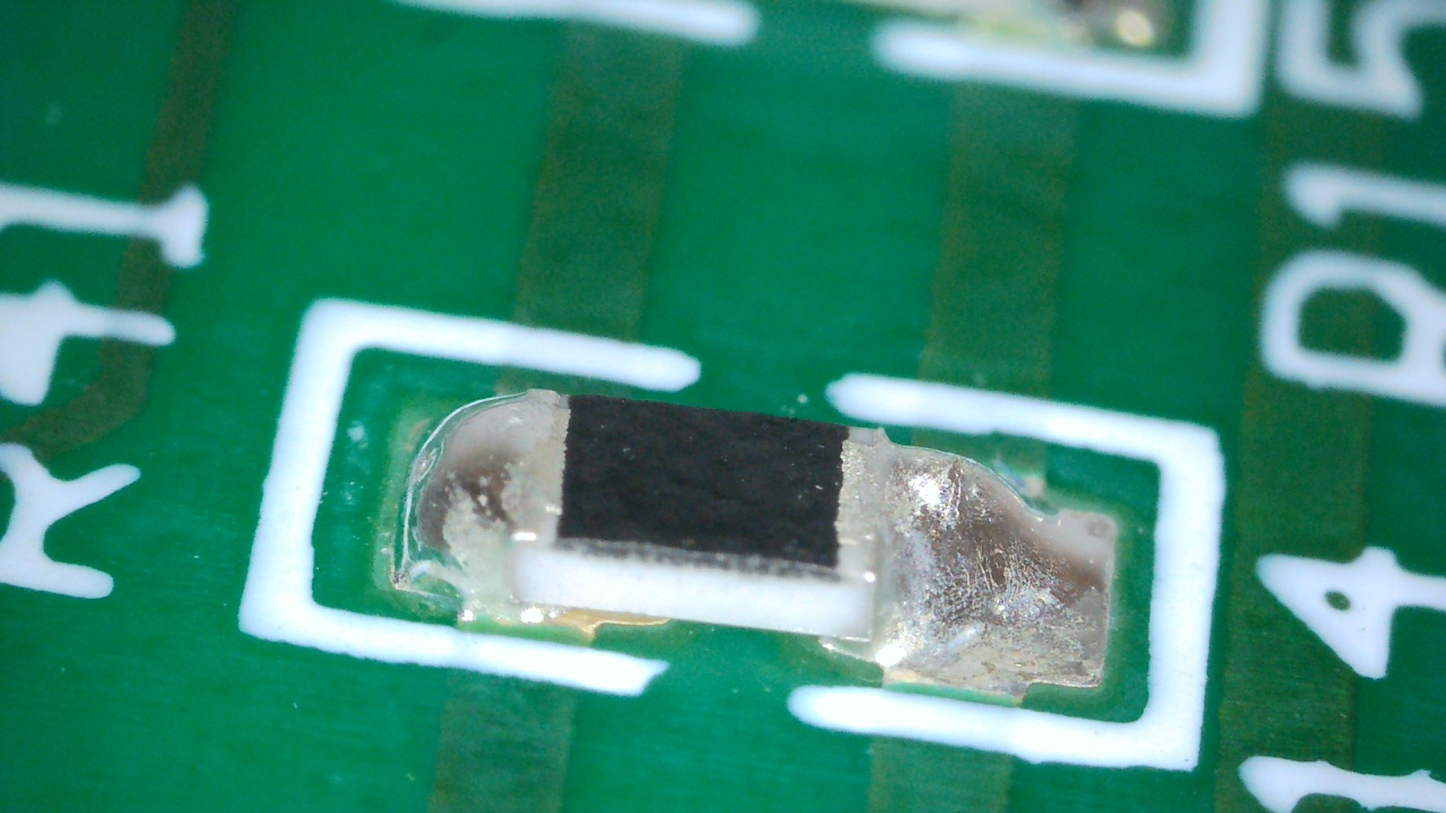NG: (818, 429, 1119, 695), (408, 389, 577, 622)
